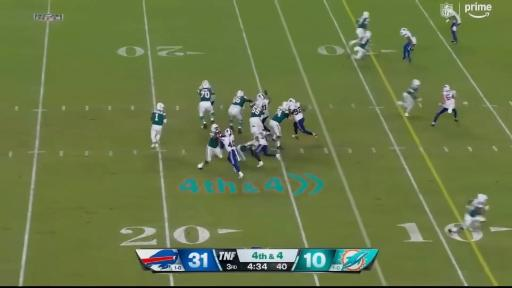Helmet: (477, 194, 487, 202), (411, 78, 421, 85), (211, 123, 219, 131), (281, 102, 289, 110), (156, 103, 164, 110), (201, 80, 209, 87), (224, 129, 232, 136), (237, 90, 244, 97), (257, 93, 265, 99), (400, 27, 408, 33), (289, 98, 295, 105), (444, 84, 450, 91), (363, 12, 370, 17)
Jersey: (466, 200, 484, 217), (221, 136, 236, 153), (272, 108, 289, 123), (151, 110, 166, 125), (291, 103, 303, 121), (401, 31, 416, 45), (198, 88, 214, 101), (443, 91, 455, 108), (208, 132, 219, 148), (356, 17, 369, 30), (232, 96, 247, 107), (255, 134, 268, 146), (251, 104, 263, 117), (406, 86, 418, 99), (443, 91, 455, 103), (261, 99, 269, 117), (359, 37, 370, 49), (451, 12, 461, 25)
Player: (448, 194, 488, 233), (288, 99, 317, 139), (431, 85, 458, 126), (198, 124, 222, 169), (221, 129, 243, 178), (228, 91, 252, 134), (270, 102, 289, 149), (254, 133, 280, 166), (397, 80, 420, 116), (198, 81, 214, 128), (151, 103, 166, 147), (350, 12, 369, 46), (250, 94, 264, 135), (400, 28, 416, 62), (352, 31, 371, 59), (447, 10, 461, 43), (238, 140, 257, 160), (262, 91, 270, 132)
